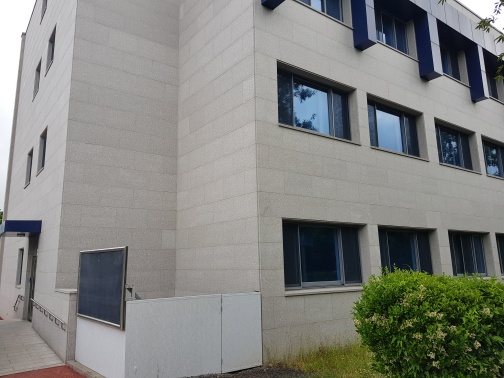College of Social Sciences: (14, 11, 487, 339)
